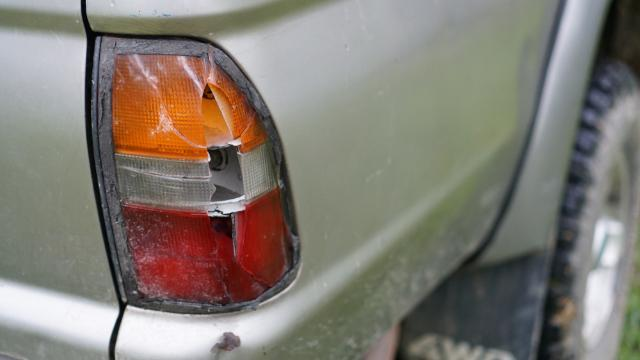lamp broken: (113, 54, 291, 306)
